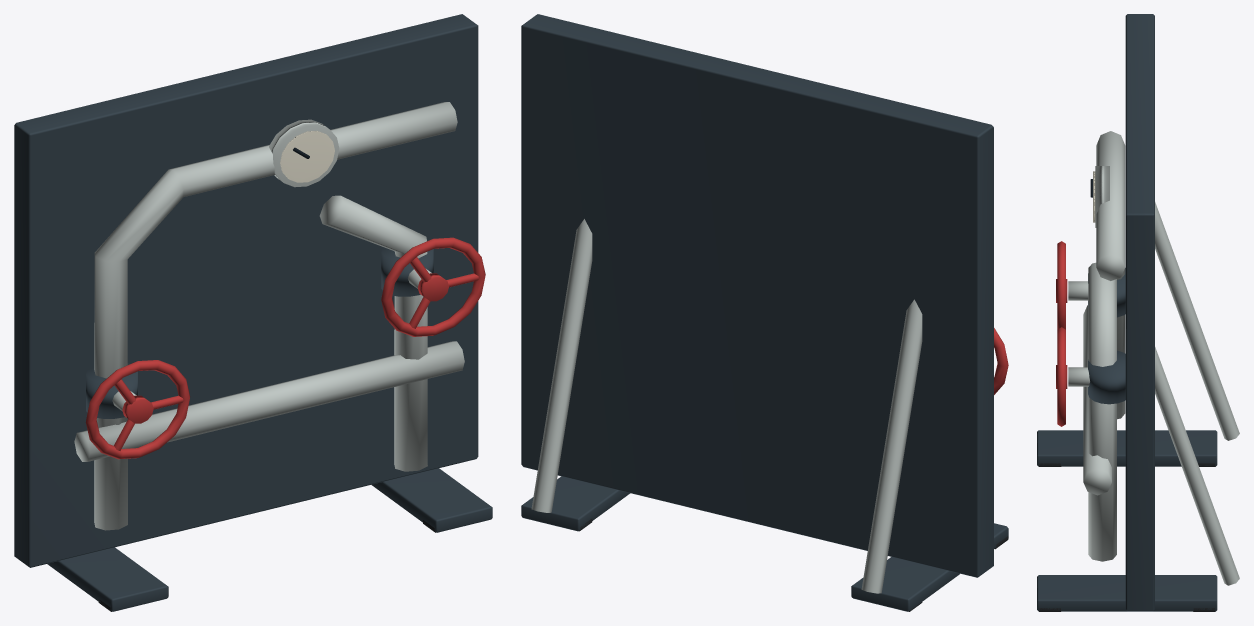
File: S085_pipe_valve_wall_rebuilt.glb
The picture shows the model from 3 angles, left to right: view 1: azimuth 30°, elevation 25°; view 2: azimuth 150°, elevation 25°; view 3: azimuth 270°, elevation 25°; orthographic projection. The views are drawn at different scales.
Visible parts, largest first — view 1: shell, silver, red, white; view 2: shell, silver; view 3: shell, silver, red, rubber.
Boxes of the visible parts, x1=… form: shell: x1=14, y1=14, x2=492, y2=611; silver: x1=74, y1=102, x2=464, y2=530; red: x1=85, y1=237, x2=485, y2=459; white: x1=280, y1=130, x2=334, y2=182; shell: x1=521, y1=14, x2=1008, y2=611; silver: x1=531, y1=219, x2=922, y2=593; shell: x1=1037, y1=14, x2=1217, y2=611; silver: x1=1068, y1=131, x2=1239, y2=585; red: x1=1056, y1=241, x2=1067, y2=426; rubber: x1=1038, y1=463, x2=1215, y2=611.
Size of the model in its own units: 2.4 by 2.3 by 1.02.
